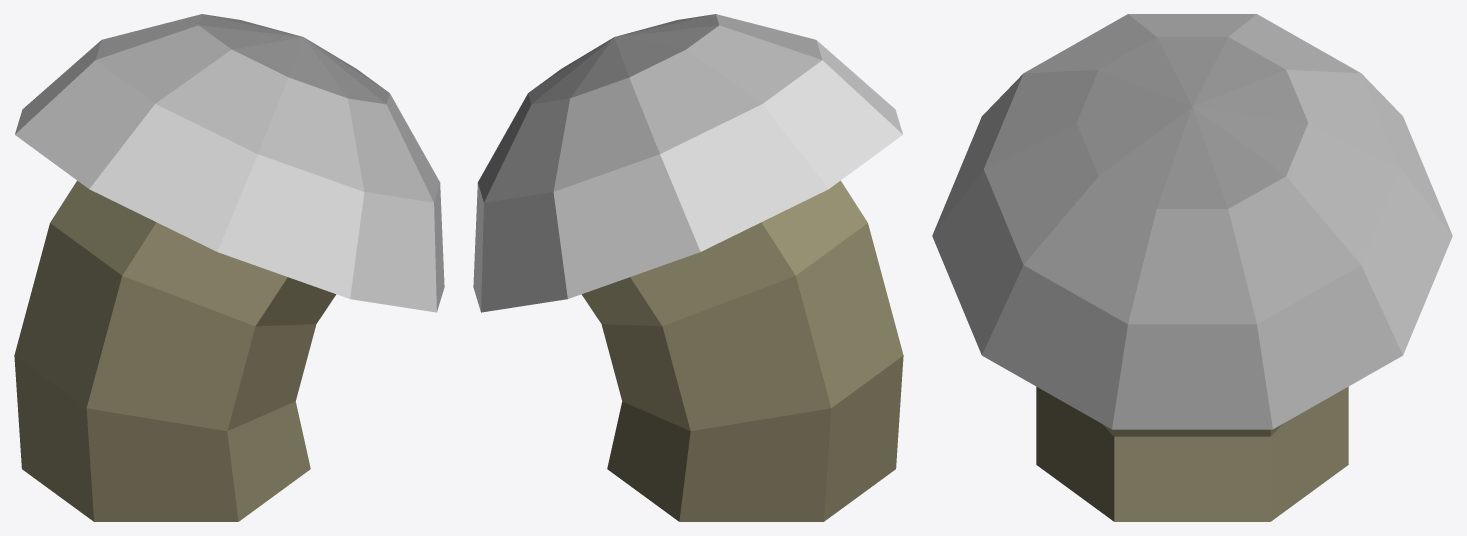
The model's file is Mushroom_3_White.fbx.
3 views of the same model, side by side, from view 1: azimuth 30°, elevation 25°; view 2: azimuth 150°, elevation 25°; view 3: azimuth 270°, elevation 25° (orthographic). The views are drawn at different scales.
Visible parts, largest first — view 1: Mushroom_3_White; view 2: Mushroom_3_White; view 3: Mushroom_3_White.
Boxes of the visible parts, box(x1,y1,x2,y2) form: Mushroom_3_White: box(14, 14, 444, 521); Mushroom_3_White: box(473, 14, 903, 521); Mushroom_3_White: box(932, 14, 1452, 521).
Size of the model in its own units: 57.52 by 64.13 by 66.69.
